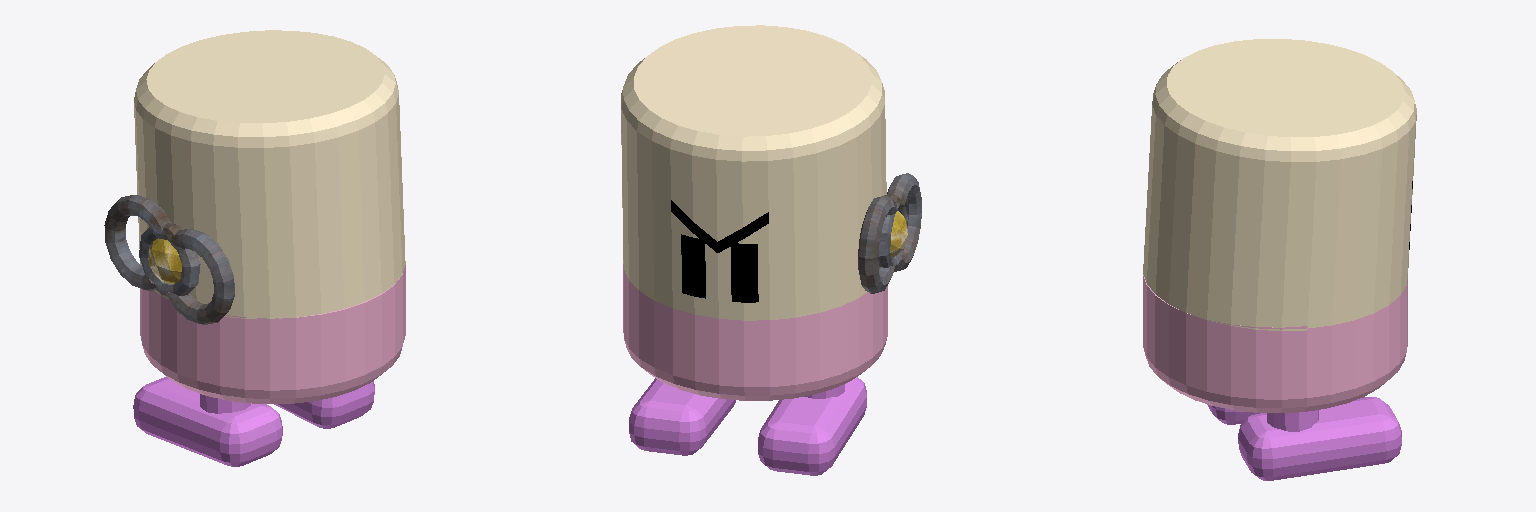
3 views of the same model, side by side, from view 1: azimuth 30°, elevation 25°; view 2: azimuth 150°, elevation 25°; view 3: azimuth 270°, elevation 25° (orthographic).
Parts seen in each view (by area): view 1: Head, Jaw, WindupKey, LeftLeg, RightLeg; view 2: Head, Jaw, LeftLeg, RightLeg, WindupKey; view 3: Head, Jaw, RightLeg.
Part boxes in pixels (left/top/right/bottom): Head: left=134, top=30, right=405, bottom=318; Jaw: left=140, top=265, right=405, bottom=403; WindupKey: left=104, top=195, right=234, bottom=324; LeftLeg: left=133, top=377, right=282, bottom=466; RightLeg: left=274, top=381, right=374, bottom=428; Head: left=621, top=25, right=886, bottom=320; Jaw: left=623, top=264, right=887, bottom=400; LeftLeg: left=758, top=377, right=866, bottom=475; RightLeg: left=629, top=378, right=735, bottom=455; WindupKey: left=858, top=173, right=921, bottom=293; Head: left=1143, top=39, right=1416, bottom=330; Jaw: left=1143, top=275, right=1407, bottom=412; RightLeg: left=1238, top=397, right=1401, bottom=480.
Size of the model in its own units: 113 by 149 by 103.
6 materials, 2 textured.